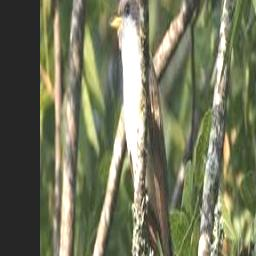Cuckoo: (108, 0, 185, 256)
